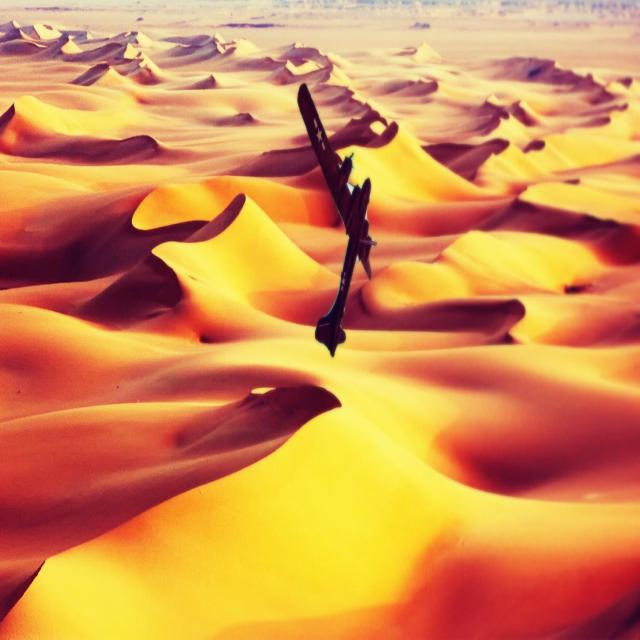airplane: (296, 83, 377, 358)
